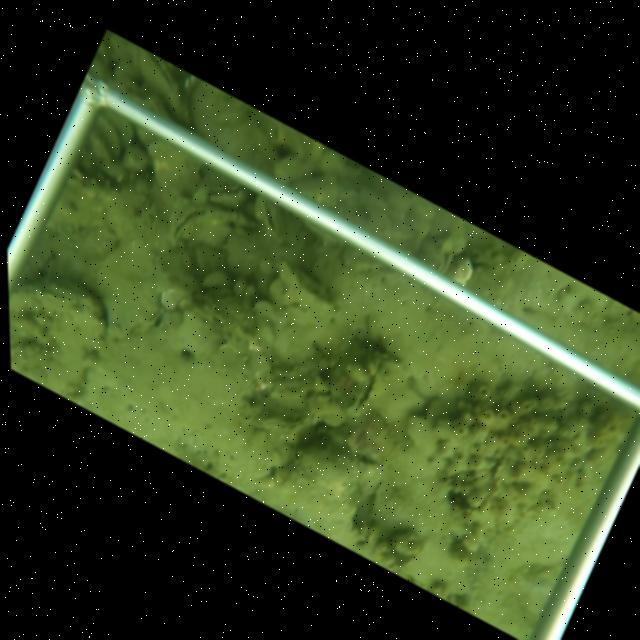Oyster-Closed: (238, 406, 320, 438), (231, 277, 246, 299)
Oyster-Open: (138, 49, 191, 127), (253, 195, 305, 250), (167, 206, 208, 251)
